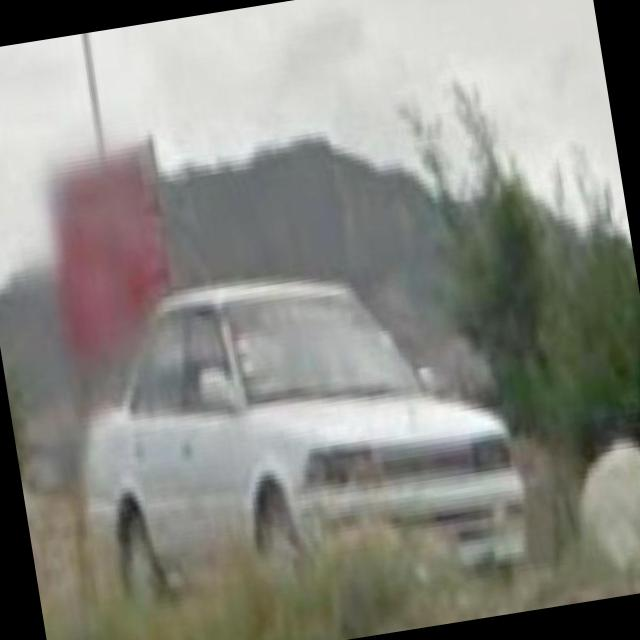car: (53, 228, 534, 627)
